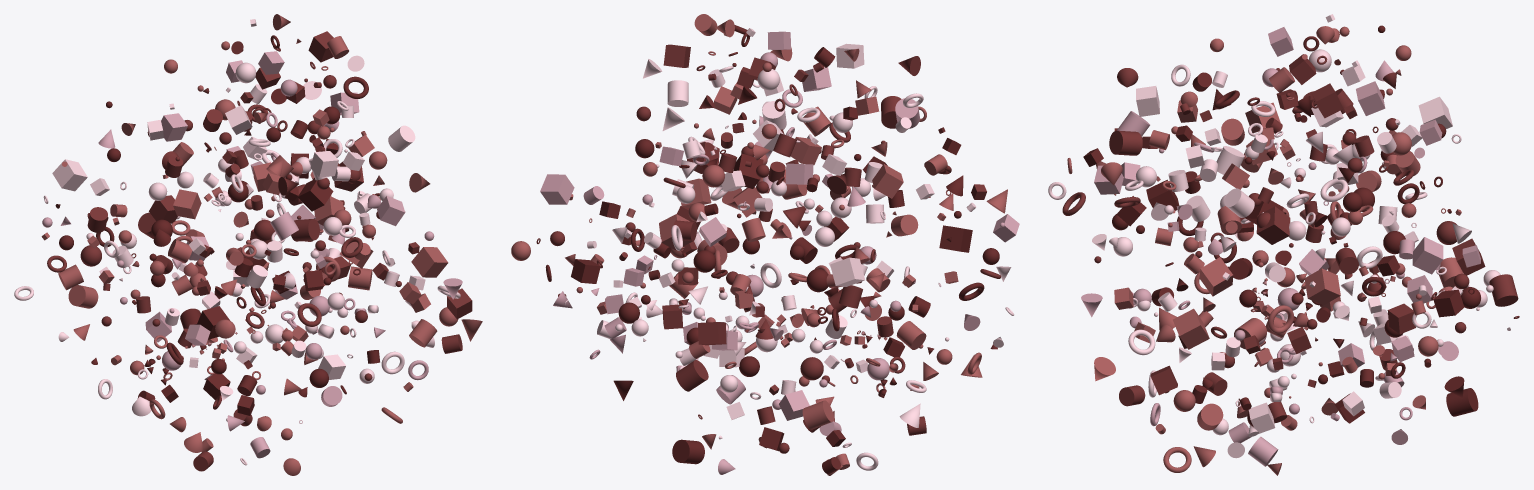
File: Ekster.fbx
The picture shows the model from 3 angles, left to right: view 1: azimuth 30°, elevation 25°; view 2: azimuth 150°, elevation 25°; view 3: azimuth 270°, elevation 25°; orthographic projection. The views are drawn at different scales.
Parts seen in each view (by area): view 1: 1LightRedMass, 1WhiteMass, 1Darkredmass, 1DarkerRedmass, 1LightpinkMass, M_BirdUp; view 2: 1LightRedMass, 1WhiteMass, 1Darkredmass, 1DarkerRedmass, 1LightpinkMass, M_BirdUp; view 3: 1LightRedMass, 1WhiteMass, 1Darkredmass, 1DarkerRedmass, 1LightpinkMass, M_BirdUp.
Boxes of the visible parts, x1=… form: 1LightRedMass: x1=41, y1=14, x2=482, y2=475; 1WhiteMass: x1=14, y1=19, x2=460, y2=465; 1Darkredmass: x1=47, y1=31, x2=472, y2=471; 1DarkerRedmass: x1=55, y1=35, x2=379, y2=415; 1LightpinkMass: x1=42, y1=51, x2=462, y2=458; M_BirdUp: x1=130, y1=305, x2=378, y2=385; 1LightRedMass: x1=511, y1=14, x2=1007, y2=475; 1WhiteMass: x1=564, y1=28, x2=1014, y2=470; 1Darkredmass: x1=550, y1=44, x2=1000, y2=453; 1DarkerRedmass: x1=536, y1=25, x2=999, y2=474; 1LightpinkMass: x1=540, y1=31, x2=1019, y2=474; M_BirdUp: x1=669, y1=298, x2=952, y2=397; 1LightRedMass: x1=1067, y1=26, x2=1463, y2=475; 1WhiteMass: x1=1048, y1=14, x2=1510, y2=458; 1Darkredmass: x1=1062, y1=54, x2=1519, y2=423; 1DarkerRedmass: x1=1083, y1=25, x2=1480, y2=427; 1LightpinkMass: x1=1081, y1=27, x2=1480, y2=466; M_BirdUp: x1=1252, y1=250, x2=1312, y2=401.
Bounding box in the file's own units: 7865 × 7856 × 7283.
